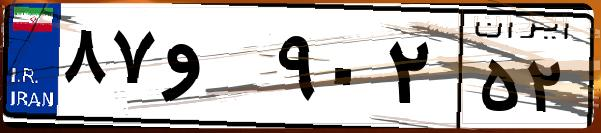0: (330, 28, 385, 110)
2: (385, 28, 445, 110), (525, 38, 570, 115)
5: (475, 38, 525, 113)
7: (110, 28, 158, 98)
8: (57, 26, 110, 100)
9: (270, 28, 330, 110)
و: (158, 20, 270, 120)
